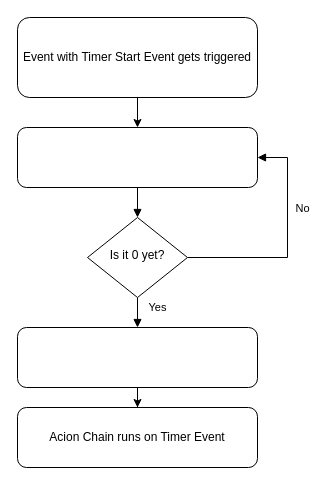
The diagram is 326 pixels wide and 485 high, and some of its shapes have lost their labels. The box of each missing label's shape, as (x1, y1, x2, y2) in pixels:
Grid counts down to 0: (16, 126, 258, 188)
Timer Event is triggered: (16, 326, 258, 388)
